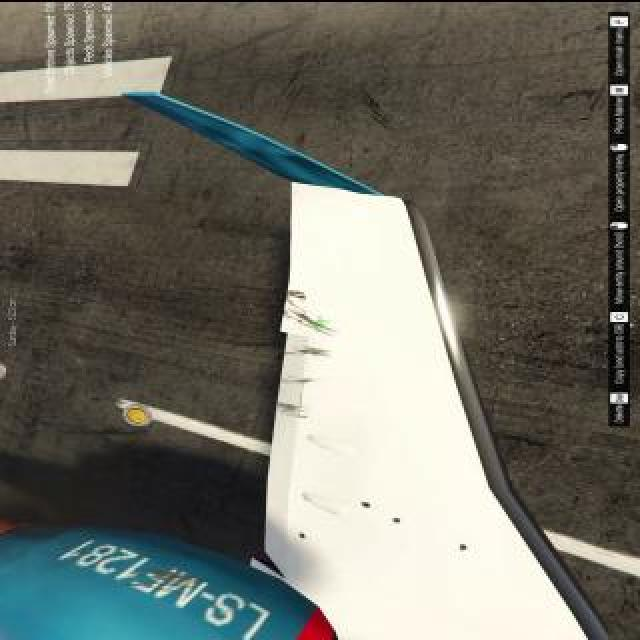crack: (457, 539, 473, 551), (356, 501, 376, 509), (295, 531, 311, 539), (392, 516, 404, 524)
dent: (299, 346, 330, 356), (281, 401, 306, 410), (289, 290, 306, 297)
